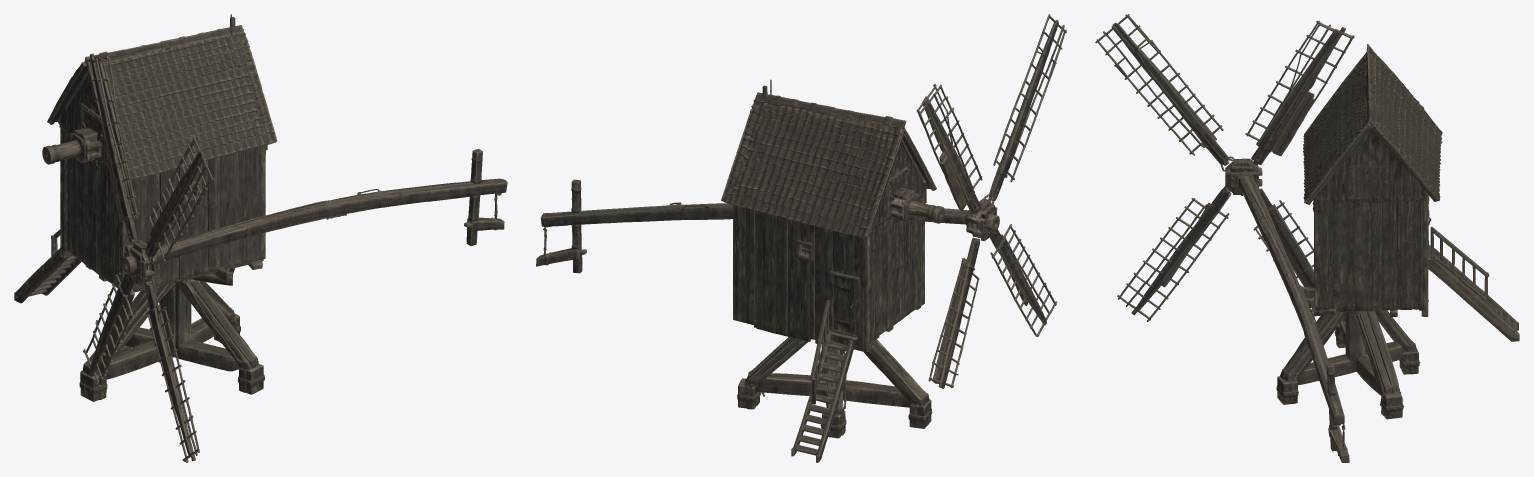
The model's file is wiatrak_kozlak.glb.
The picture shows the model from 3 angles, left to right: view 1: azimuth 30°, elevation 25°; view 2: azimuth 150°, elevation 25°; view 3: azimuth 270°, elevation 25°; orthographic projection. The views are drawn at different scales.
Parts seen in each view (by area): view 1: Mesh_0; view 2: Mesh_0; view 3: Mesh_0.
Part boxes in pixels (bbox=[...]): Mesh_0: bbox=[14, 14, 507, 462]; Mesh_0: bbox=[536, 14, 1066, 462]; Mesh_0: bbox=[1095, 14, 1519, 462].
Bounding box in the file's own units: 1.9 × 1.45 × 1.73.
1 material, 1 textured.
